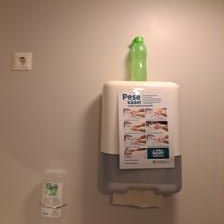bottle: (123, 33, 149, 88)
